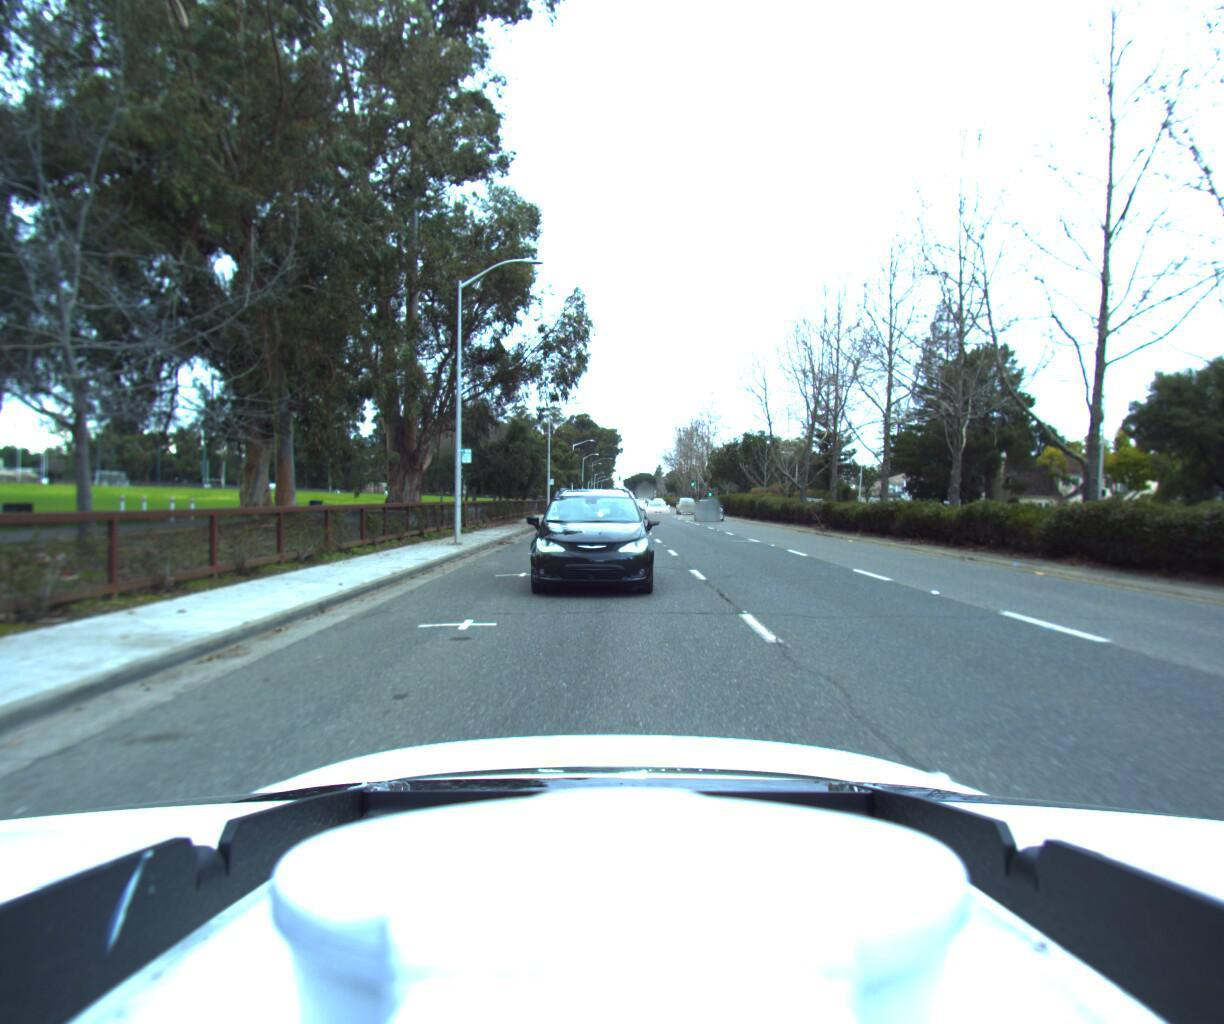car: (525, 481, 652, 598), (694, 496, 729, 520), (640, 497, 667, 517), (675, 495, 700, 513)
